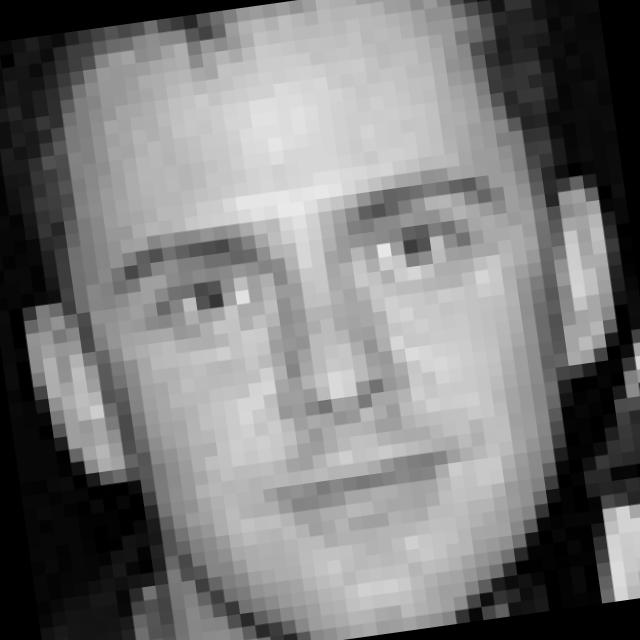neutral: (100, 147, 556, 574)
